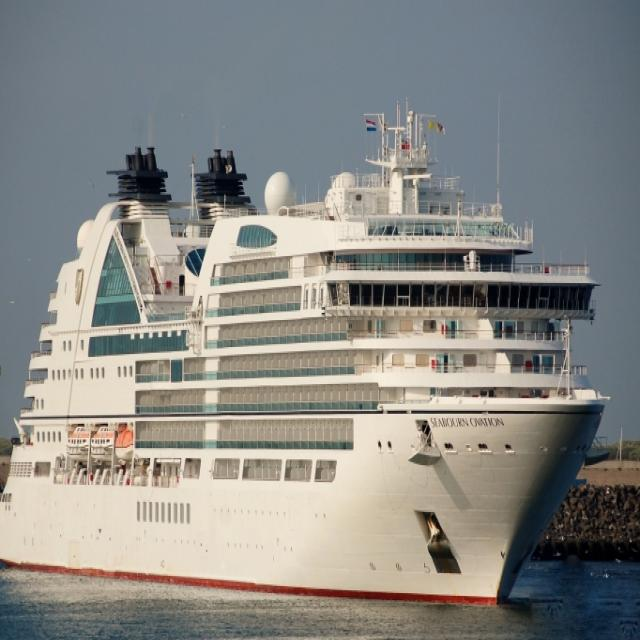cruises: (1, 98, 615, 623)
